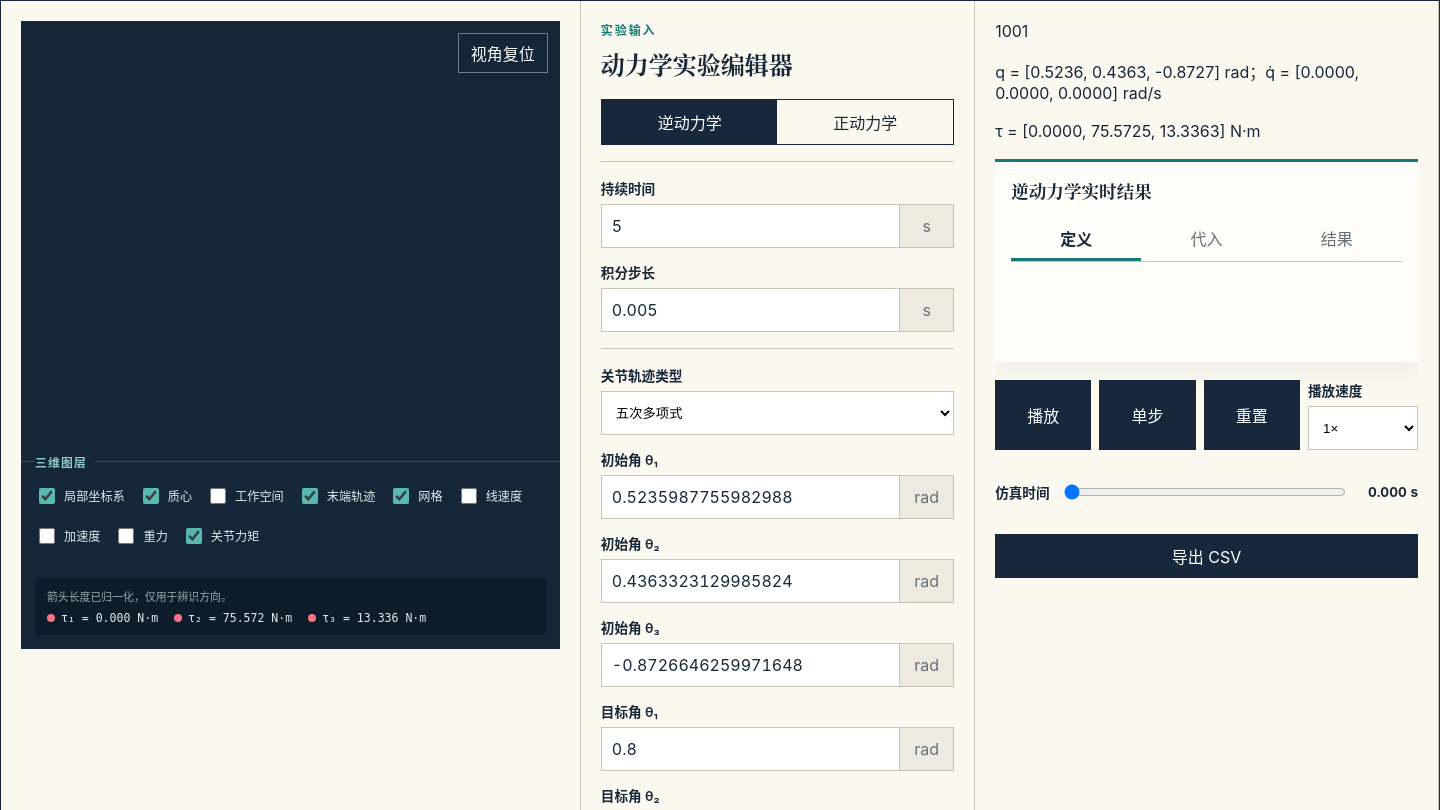
Test: ExperimentPage › leaves mode, samples, time, and playback unchanged when a mode switch draft is invalid
Set the slider labelled "仿真时间" to "0.5" at (1098, 492), box 1064,470 -> 1346,514
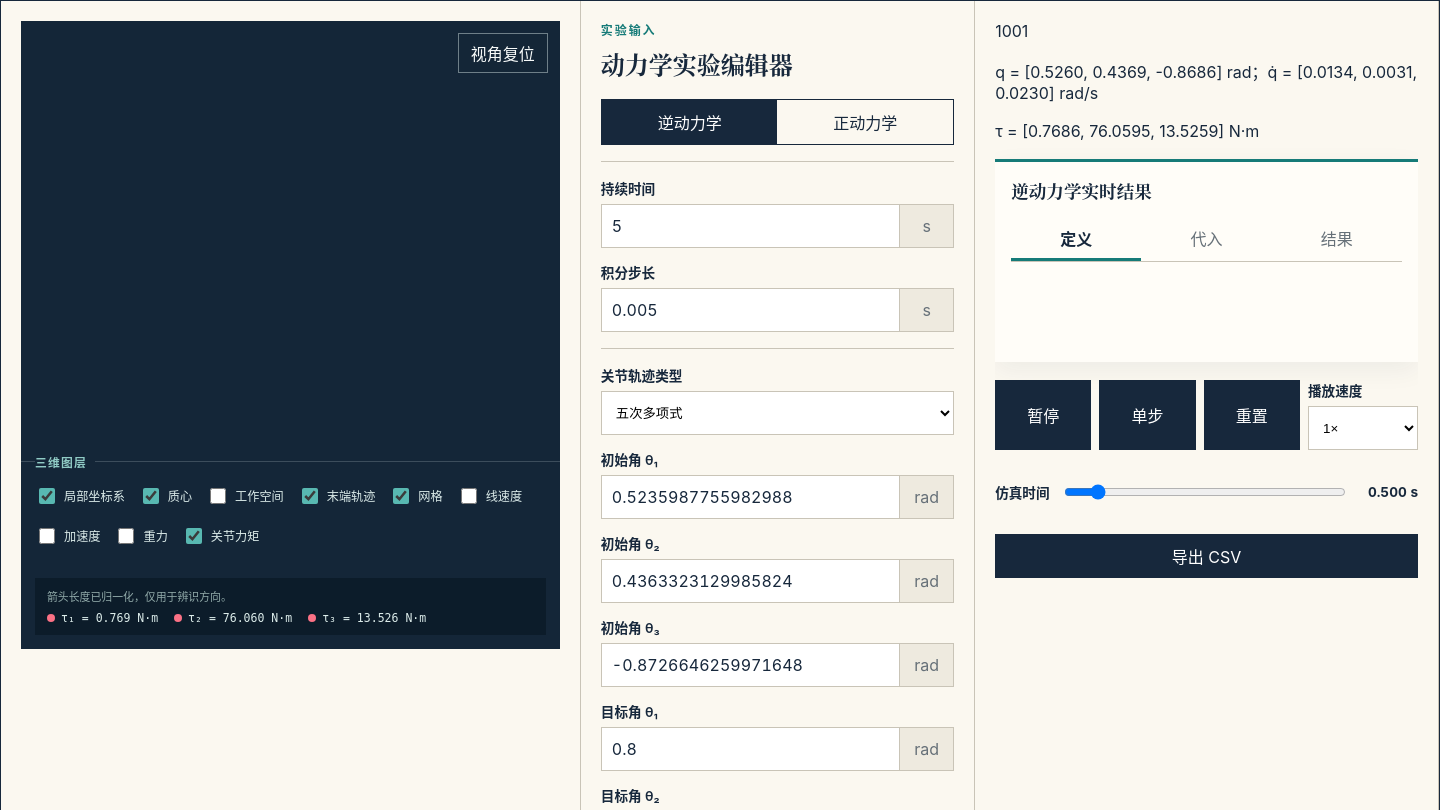
Replace the text in the field labelled "持续时间" with "invalid" at (750, 226), box 601,204 -> 900,248
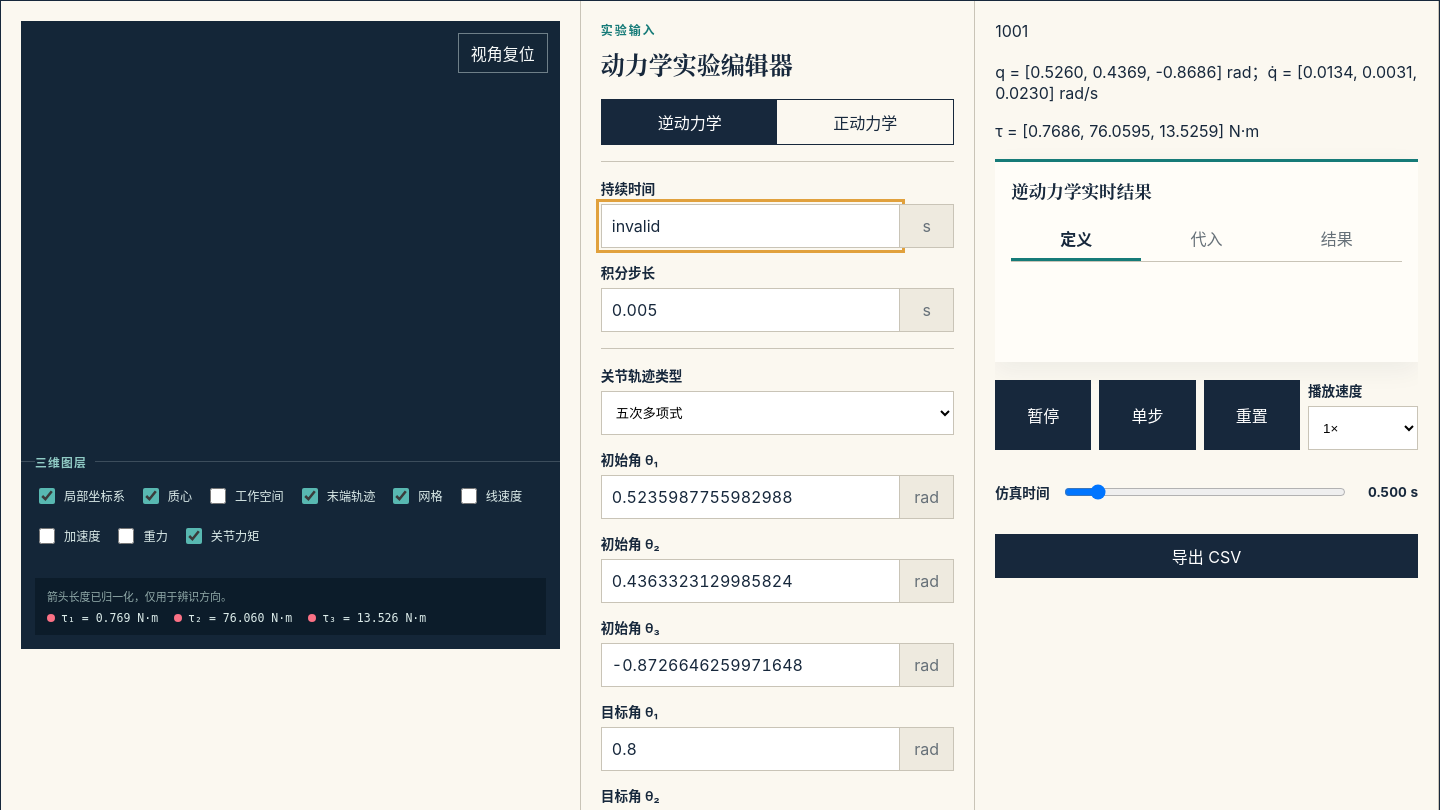
Click the tab "正动力学" at (865, 122), box 778,100 -> 953,144
(page scrolled)
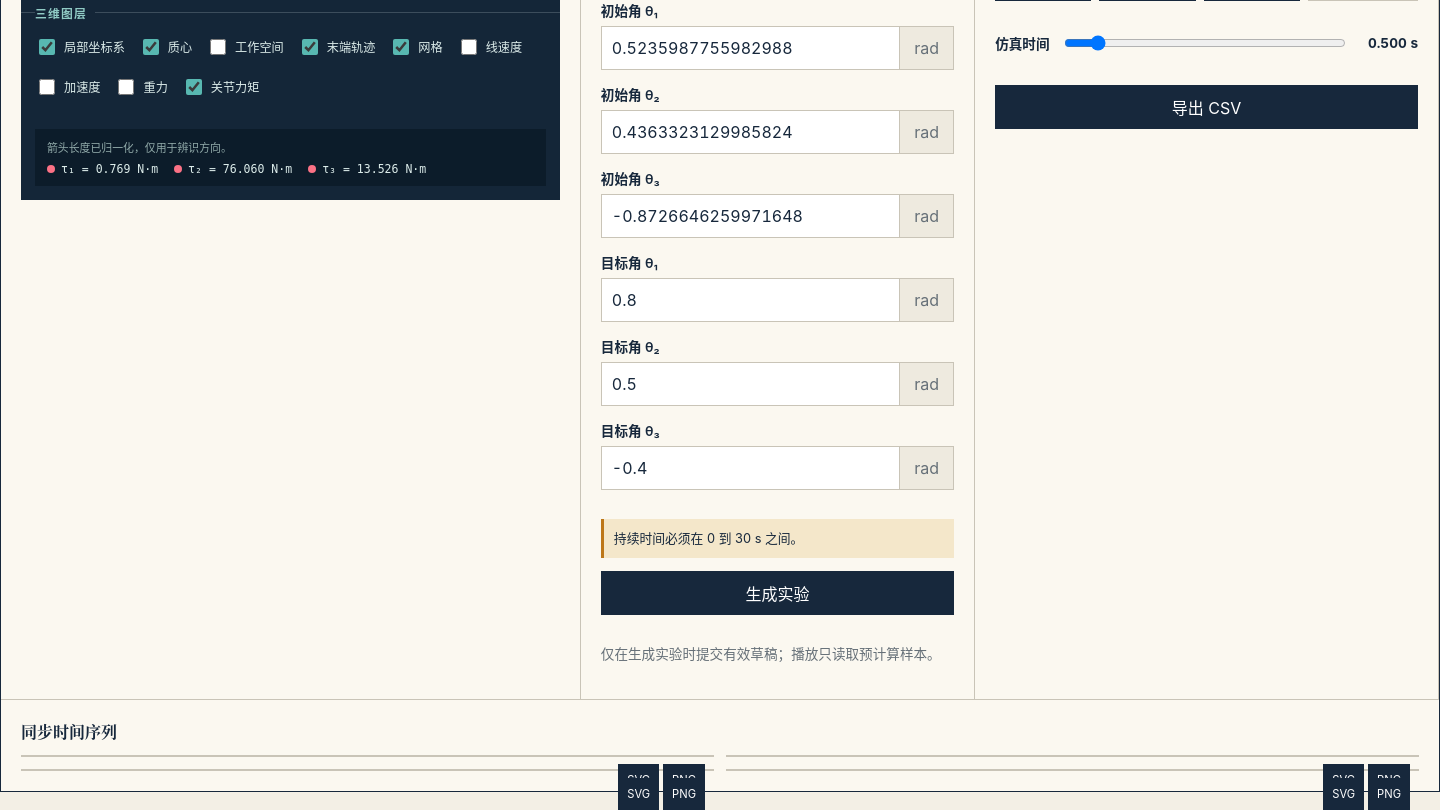
expect the message reads "持续时间必须在 0 到 30 s 之间。": met, box 614,531 -> 803,546
